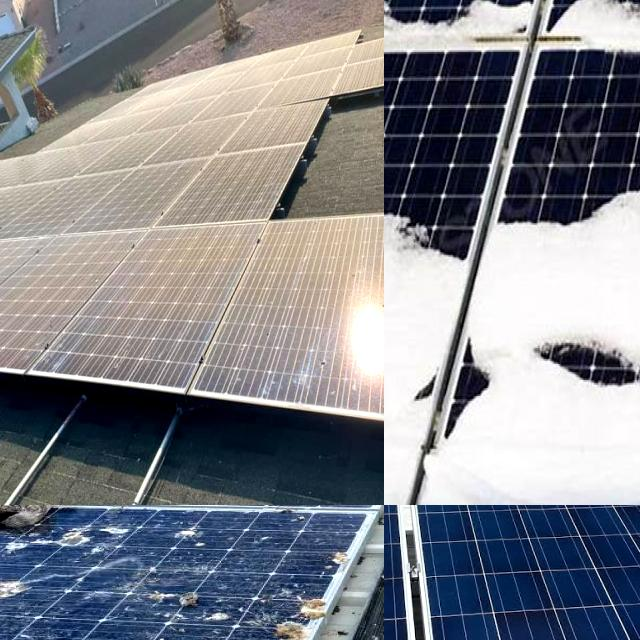bird: (140, 578, 225, 622), (50, 528, 130, 556), (162, 505, 240, 524), (218, 505, 295, 524), (0, 572, 30, 607), (284, 505, 356, 518), (0, 543, 28, 568), (332, 505, 361, 521), (0, 505, 26, 519)
crack: (384, 505, 640, 640), (384, 505, 617, 594), (384, 505, 532, 640), (518, 505, 640, 596), (384, 505, 487, 585), (469, 505, 640, 551), (384, 505, 518, 542), (568, 505, 640, 550), (384, 505, 458, 546)
dust: (269, 216, 384, 422), (132, 229, 252, 385), (30, 231, 116, 360), (212, 60, 316, 144), (0, 239, 63, 346), (134, 88, 202, 158), (208, 148, 269, 214), (0, 189, 103, 228), (128, 180, 203, 228), (56, 134, 125, 177), (0, 258, 29, 342), (1, 149, 52, 187), (352, 48, 384, 89), (0, 207, 16, 238)
panel: (541, 289, 640, 425), (484, 171, 640, 243), (384, 193, 468, 303), (442, 301, 507, 435), (384, 0, 524, 57), (542, 0, 640, 61), (384, 334, 437, 432), (384, 55, 423, 162), (384, 184, 450, 246), (384, 141, 439, 213), (384, 256, 422, 343), (384, 334, 419, 421), (384, 0, 426, 40), (384, 0, 416, 30)
